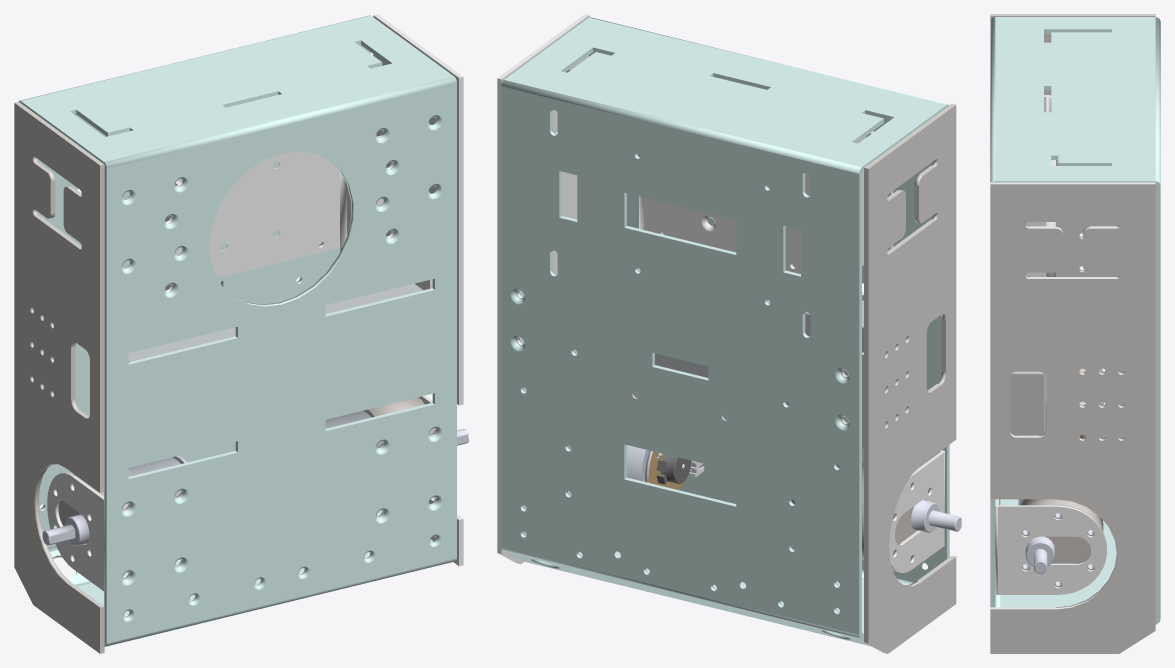
3 views of the same model, side by side, from view 1: azimuth 30°, elevation 25°; view 2: azimuth 150°, elevation 25°; view 3: azimuth 270°, elevation 25° (orthographic). The views are drawn at different scales.
Visible parts, largest first — view 1: FBXASC050375, FBXASC050376, FBXASC050378, FBXASC050371, FBXASC050377, FBXASC050379, FBXASC050372, FBXASC050367; view 2: FBXASC050375, FBXASC050376, FBXASC050378, FBXASC050377, FBXASC050371, FBXASC050367, FBXASC050372, FBXASC050379; view 3: FBXASC050377, FBXASC050375, FBXASC050370, FBXASC050367, FBXASC050379, FBXASC050376, FBXASC050378.
Part boxes in pixels (x1,y1,x2,y2): FBXASC050375: (19, 15, 456, 646); FBXASC050376: (14, 101, 104, 653); FBXASC050378: (165, 135, 393, 292); FBXASC050371: (47, 472, 182, 591); FBXASC050377: (340, 14, 463, 566); FBXASC050379: (128, 283, 422, 361); FBXASC050372: (42, 455, 187, 552); FBXASC050367: (325, 397, 468, 447); FBXASC050375: (501, 17, 949, 646); FBXASC050376: (841, 103, 956, 653); FBXASC050378: (639, 131, 893, 273); FBXASC050377: (497, 14, 589, 564); FBXASC050371: (862, 448, 944, 572); FBXASC050367: (568, 445, 704, 490); FBXASC050372: (791, 463, 961, 559); FBXASC050379: (637, 268, 863, 419); FBXASC050377: (990, 182, 1155, 653); FBXASC050375: (990, 17, 1160, 624); FBXASC050370: (995, 499, 1106, 594); FBXASC050367: (1018, 499, 1103, 586); FBXASC050379: (1010, 371, 1045, 435); FBXASC050376: (990, 14, 1155, 438); FBXASC050378: (1026, 95, 1055, 276).
Bounding box in the file's own units: 0.192 × 0.07 × 0.2132.
